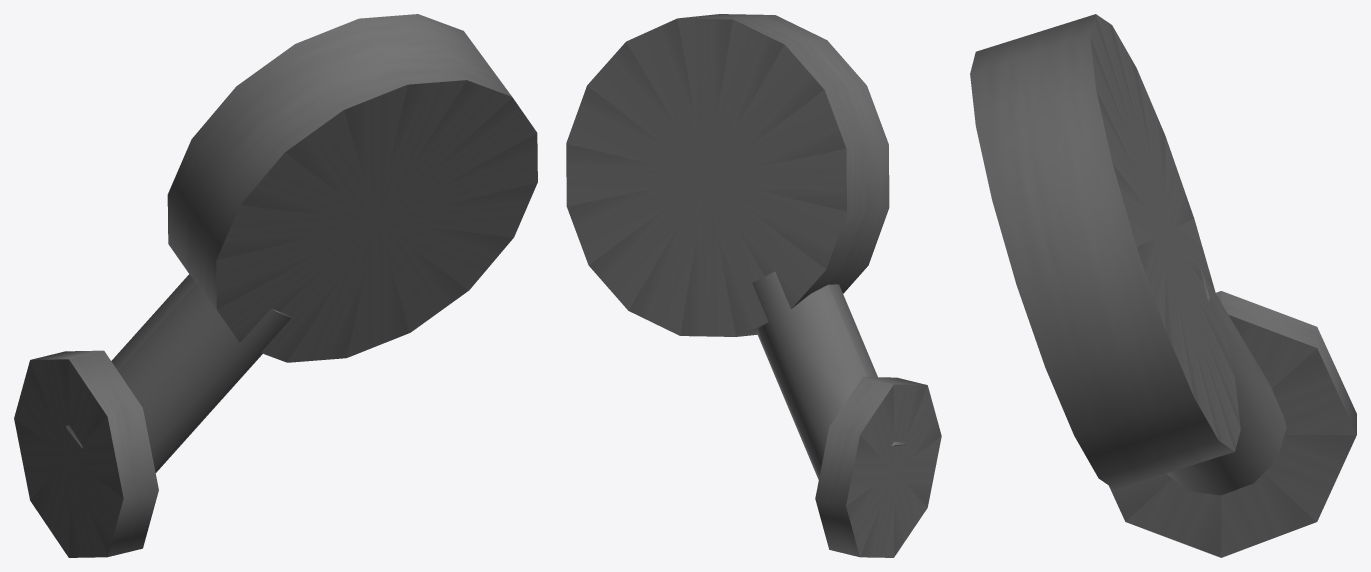
File: mastarmcurve_10x2_c1_west.obj
3 renders of one model, left to right at view 1: azimuth 30°, elevation 25°; view 2: azimuth 150°, elevation 25°; view 3: azimuth 270°, elevation 25°, orthographic. The views are drawn at different scales.
Parts seen in each view (by area): view 1: mastarm_10x2_c1_west; view 2: mastarm_10x2_c1_west; view 3: mastarm_10x2_c1_west.
Part boxes in pixels (left/top/right/bottom): mastarm_10x2_c1_west: left=14, top=14, right=537, bottom=557; mastarm_10x2_c1_west: left=566, top=14, right=941, bottom=557; mastarm_10x2_c1_west: left=970, top=14, right=1356, bottom=557.
Size of the model in its own units: 0.8426 by 1.05 by 0.5705.
